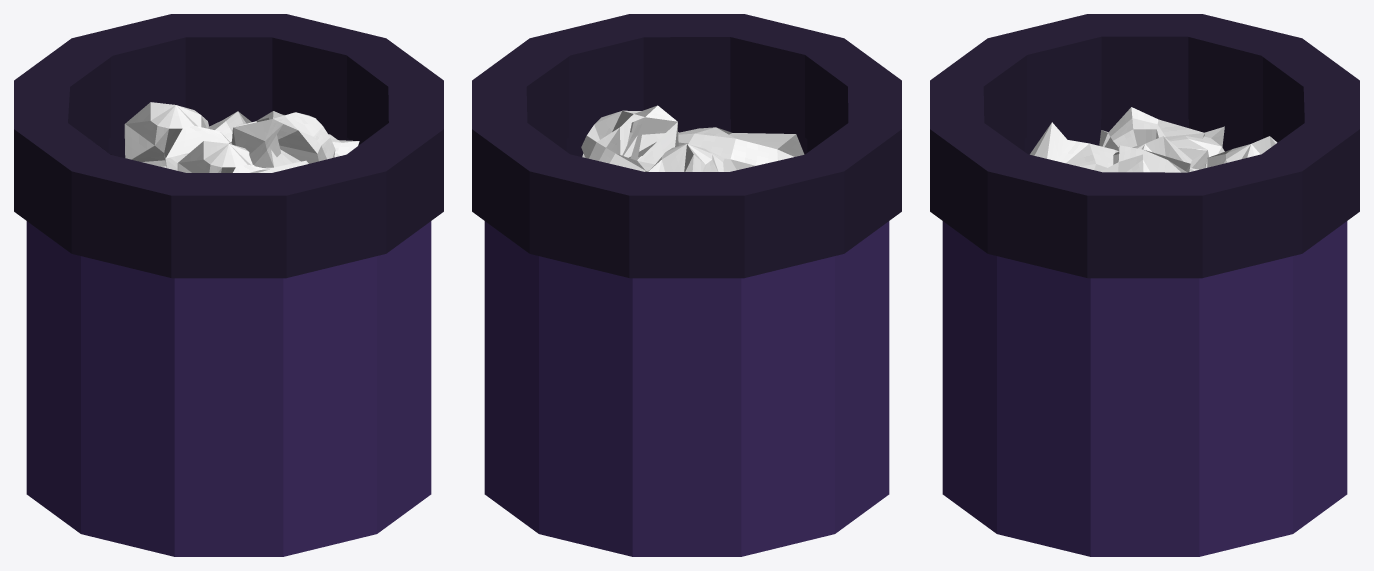
Rendered from lixo.gltf.
3 views of the same model, side by side, from view 1: azimuth 30°, elevation 25°; view 2: azimuth 150°, elevation 25°; view 3: azimuth 270°, elevation 25° (orthographic).
Parts seen in each view (by area): view 1: cylinder (×3), sphere; view 2: cylinder (×3), sphere; view 3: cylinder (×3), sphere.
Boxes of the visible parts, x1,y1,x2,y2 form: cylinder (×3): (14,14,443,556); sphere: (124,102,359,172); cylinder (×3): (472,14,901,556); sphere: (581,105,804,171); cylinder (×3): (930,14,1359,556); sphere: (1030,107,1277,172).
Size of the model in its own units: 0.5312 by 0.5 by 0.5312.
4 materials, 3 textured.
